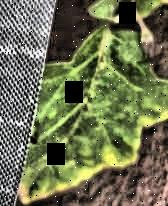Non-critical Stress: (0, 0, 167, 206)
